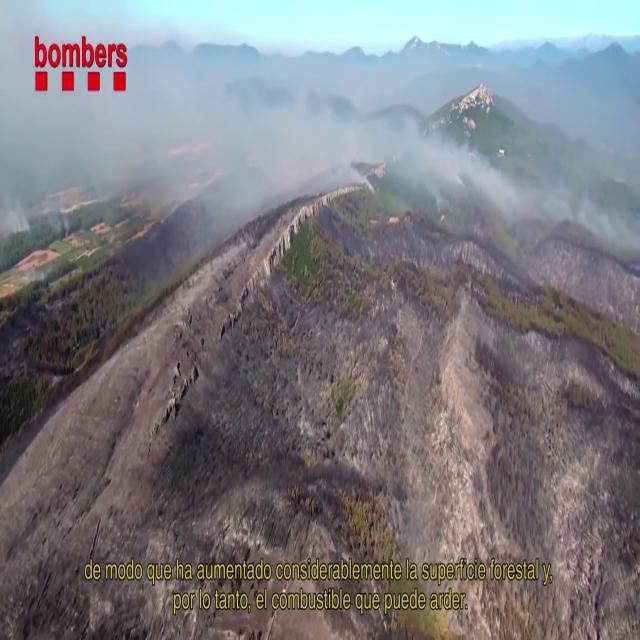Smoke: (377, 93, 529, 230)
